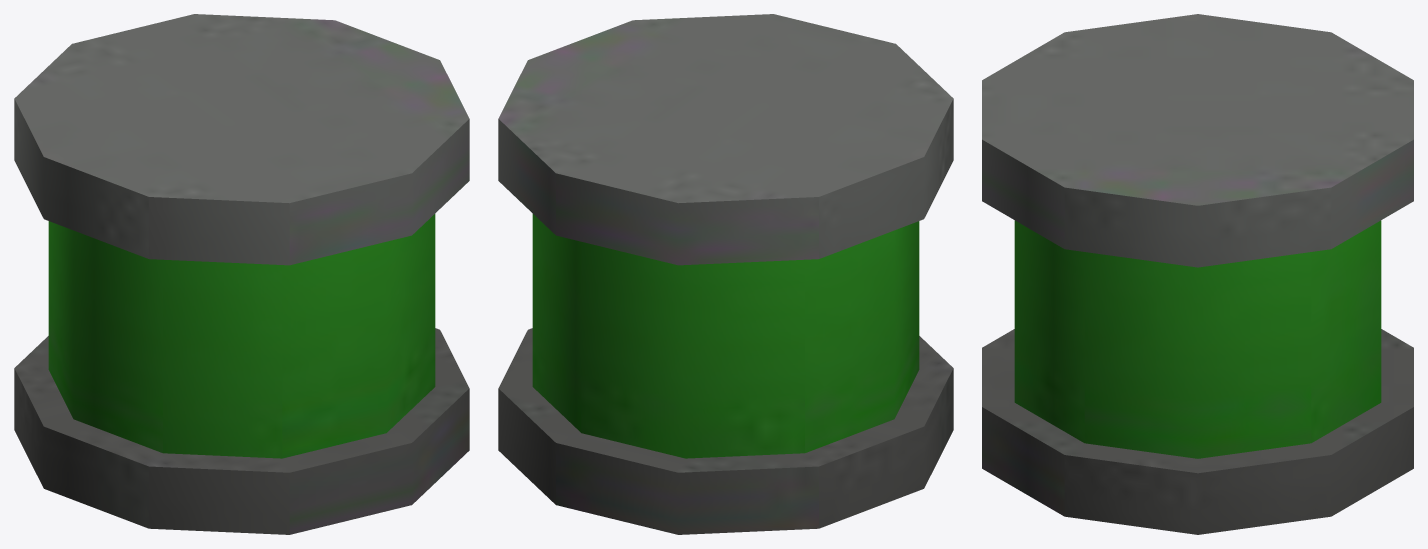
Rendered from uranium-fuel-cell.glb.
The picture shows the model from 3 angles, left to right: view 1: azimuth 30°, elevation 25°; view 2: azimuth 150°, elevation 25°; view 3: azimuth 270°, elevation 25°; orthographic projection.
Parts seen in each view (by area): view 1: uranium-fuel-cell; view 2: uranium-fuel-cell; view 3: uranium-fuel-cell.
Part boxes in pixels (x1,y1,x2,y2): uranium-fuel-cell: [14, 14, 469, 534]; uranium-fuel-cell: [498, 14, 953, 534]; uranium-fuel-cell: [982, 14, 1413, 534].
Bounding box in the file's own units: 0.2 × 0.16 × 0.1902.
Materials: 1 (1 with a texture image).
